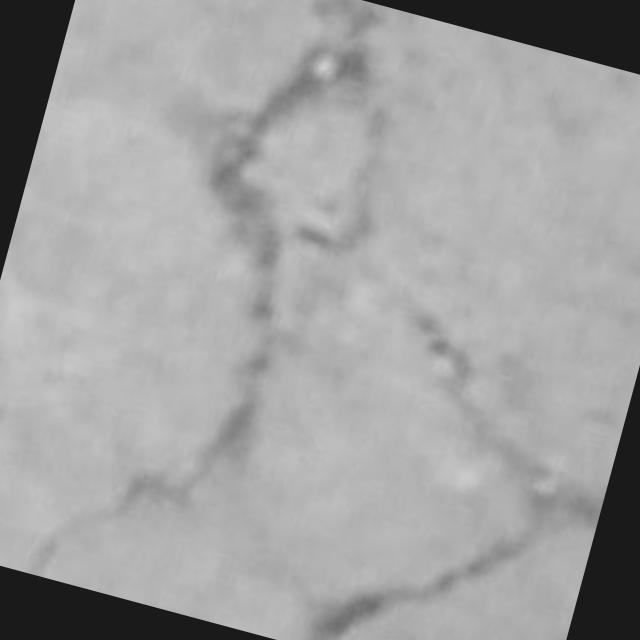crack: (26, 13, 368, 576), (401, 295, 604, 528), (307, 526, 538, 639), (26, 474, 139, 576)
